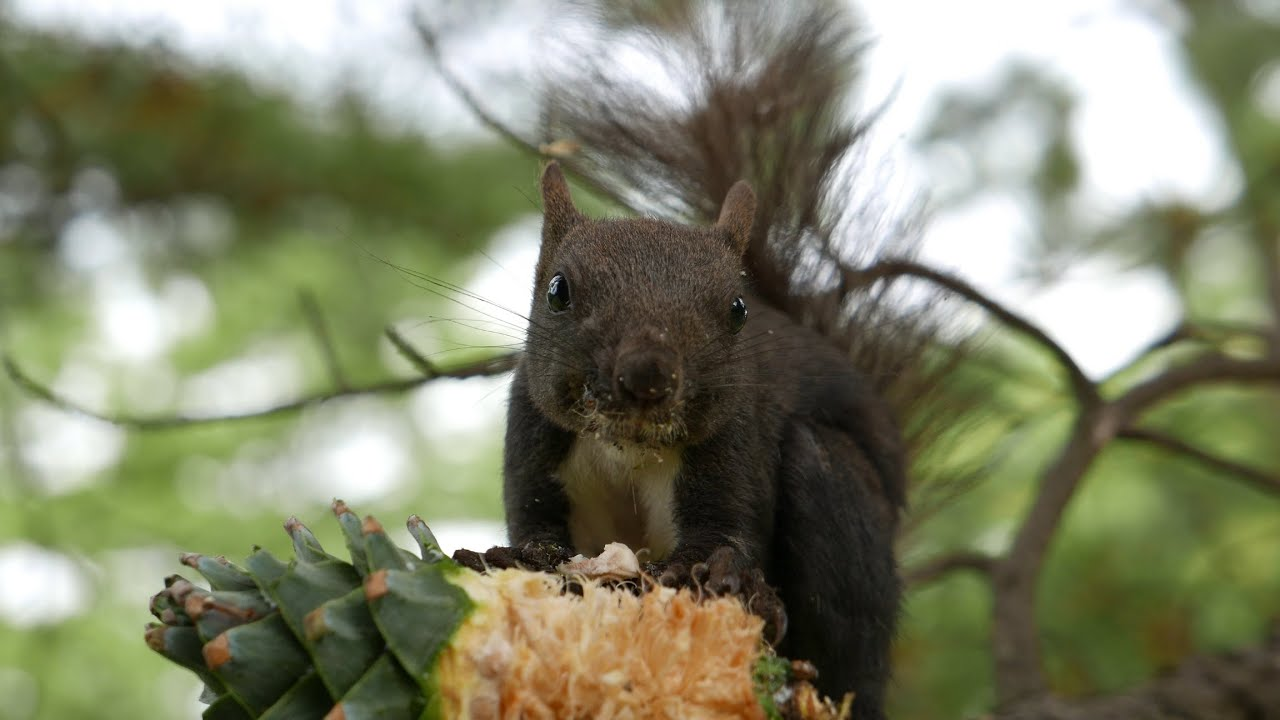chungseolmo: (505, 42, 935, 708)
